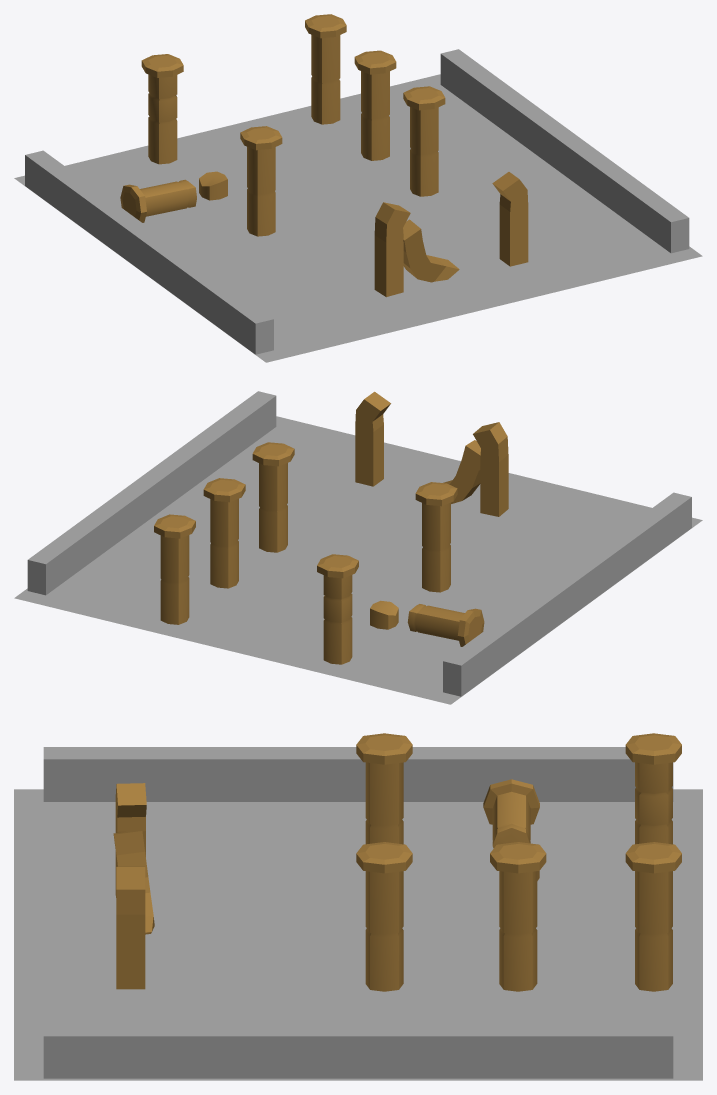
Rendered from Sand_Level_001.fbx.
3 renders of one model, top to bottom at view 1: azimuth 30°, elevation 25°; view 2: azimuth 150°, elevation 25°; view 3: azimuth 270°, elevation 25°, orthographic. The views are drawn at different scales.
Parts seen in each view (by area): view 1: pFloor, pCube2, pCube3, pPillar2, pPillar5, pPillar1, pPillar4, pPillar3, pCube5, pCube4, pPillar, pCube6 (+1 smaller); view 2: pFloor, pCube2, pCube3, pPillar5, pPillar2, pPillar3, pPillar4, pPillar1, pCube5, pCube4, pPillar, pCube6 (+1 smaller); view 3: pFloor, pCube2, pCube3, pPillar3, pPillar4, pPillar5, pPillar1, pPillar2, pCube4, pPillar, pCube5, pCube6.
Part boxes in pixels (x1,y1,x2,y2): pFloor: [14, 74, 702, 362]; pCube2: [440, 49, 689, 253]; pCube3: [25, 150, 273, 354]; pPillar2: [141, 54, 183, 164]; pPillar5: [305, 14, 346, 124]; pPillar1: [240, 126, 282, 236]; pPillar4: [403, 86, 445, 196]; pPillar3: [354, 50, 396, 160]; pCube5: [374, 202, 410, 297]; pCube4: [492, 172, 528, 266]; pPillar: [120, 179, 196, 222]; pCube6: [403, 219, 459, 282]; pFloor: [14, 416, 702, 704]; pCube2: [27, 391, 276, 595]; pCube3: [443, 492, 691, 696]; pPillar5: [154, 514, 195, 624]; pPillar2: [317, 554, 358, 664]; pPillar3: [203, 478, 245, 588]; pPillar4: [252, 442, 294, 552]; pPillar1: [415, 482, 457, 592]; pCube5: [473, 422, 508, 516]; pCube4: [355, 391, 390, 486]; pPillar: [407, 604, 484, 646]; pCube6: [443, 440, 480, 503]; pFloor: [14, 789, 702, 1080]; pCube2: [43, 1024, 673, 1078]; pCube3: [43, 747, 673, 801]; pPillar3: [490, 842, 546, 991]; pPillar4: [356, 842, 412, 991]; pPillar5: [625, 842, 681, 991]; pPillar1: [356, 733, 412, 844]; pPillar2: [625, 733, 681, 844]; pCube4: [116, 866, 145, 989]; pPillar: [483, 779, 539, 848]; pCube5: [115, 783, 146, 897]; pCube6: [113, 830, 154, 934].
Bounding box in the file's own units: 23.94 × 5.41 × 23.94.
